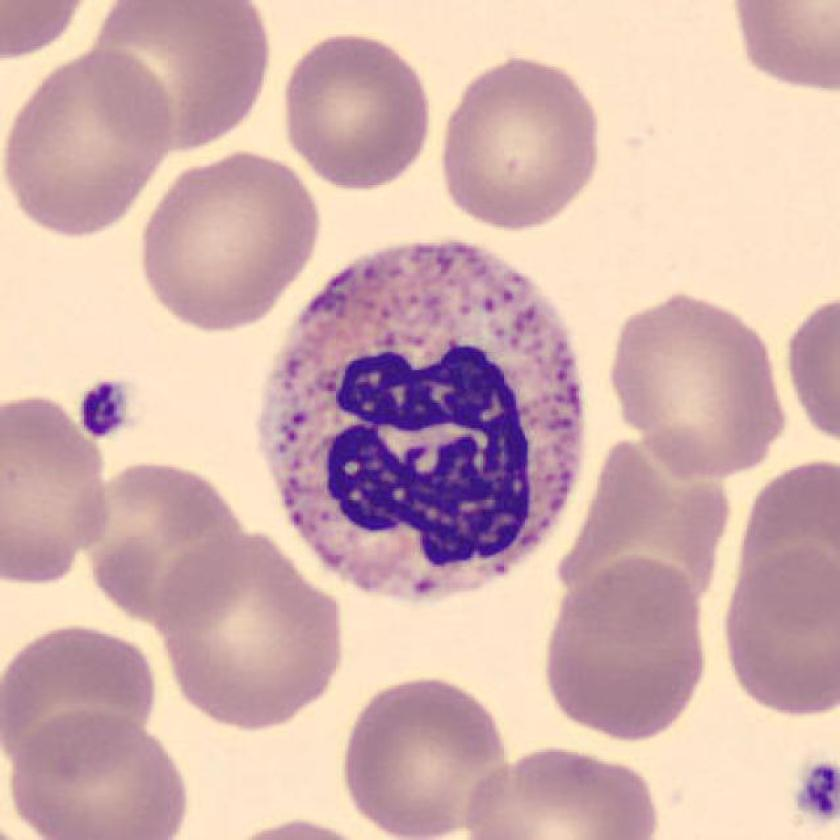neutrophil: (259, 243, 583, 595)
